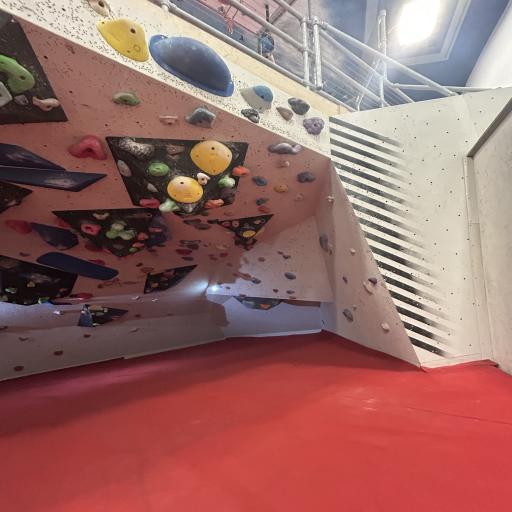holds: (153, 33, 234, 96), (97, 17, 149, 62), (192, 140, 234, 176), (0, 54, 34, 92), (68, 135, 108, 160), (119, 137, 156, 159), (241, 85, 272, 110), (106, 220, 135, 240), (184, 109, 214, 128), (112, 92, 141, 107), (33, 96, 61, 111), (6, 219, 34, 234), (301, 117, 325, 134), (288, 96, 310, 114), (269, 143, 302, 155), (88, 0, 112, 15), (0, 81, 13, 106), (159, 198, 180, 212), (148, 162, 168, 176), (276, 106, 294, 121), (242, 109, 260, 123), (81, 224, 102, 236), (118, 159, 132, 176), (219, 187, 238, 199), (160, 114, 178, 126), (218, 176, 236, 188), (232, 166, 250, 178), (166, 144, 186, 154), (204, 199, 224, 209), (140, 198, 160, 208), (298, 172, 316, 183), (15, 94, 30, 106), (319, 234, 329, 252), (252, 176, 268, 186), (55, 217, 71, 227), (274, 184, 290, 193), (84, 244, 102, 252), (362, 282, 374, 294), (197, 173, 210, 184), (342, 309, 354, 320), (179, 240, 201, 246), (78, 292, 94, 300), (88, 259, 105, 266), (216, 244, 229, 252), (147, 184, 159, 192), (184, 220, 200, 226), (93, 213, 109, 219), (116, 256, 132, 262), (284, 272, 296, 280), (243, 300, 255, 308), (176, 249, 192, 255), (277, 161, 290, 168), (258, 206, 271, 213), (256, 198, 268, 205), (243, 230, 255, 237), (140, 267, 154, 273), (194, 224, 210, 229), (132, 213, 148, 218), (132, 242, 144, 248), (381, 322, 390, 330), (138, 233, 148, 240), (368, 277, 378, 284), (38, 298, 49, 304), (163, 270, 174, 276), (250, 277, 260, 283), (150, 270, 165, 274), (88, 306, 103, 310), (57, 244, 67, 250), (228, 196, 235, 204), (113, 244, 124, 249), (70, 229, 81, 234), (103, 281, 114, 286), (149, 228, 162, 232), (208, 219, 218, 224), (6, 288, 16, 293), (14, 366, 24, 371), (232, 221, 239, 228), (295, 194, 303, 200), (326, 196, 334, 202), (182, 257, 194, 261), (55, 350, 63, 356), (260, 304, 269, 309), (55, 310, 66, 314), (349, 248, 356, 254), (124, 281, 138, 284), (176, 272, 186, 276), (131, 327, 139, 332), (110, 316, 120, 320), (224, 213, 236, 216), (200, 212, 209, 216), (20, 252, 29, 256), (282, 255, 291, 259), (59, 288, 68, 292), (130, 248, 137, 253), (151, 283, 158, 288), (222, 222, 230, 226), (220, 253, 228, 257), (210, 257, 218, 261), (204, 243, 212, 247), (96, 312, 104, 316), (0, 326, 8, 330), (247, 239, 253, 244), (20, 336, 26, 341), (233, 236, 240, 240), (136, 263, 143, 267), (253, 221, 261, 224), (351, 304, 357, 308), (343, 276, 347, 282), (278, 251, 284, 255), (258, 258, 264, 262), (286, 290, 294, 293), (289, 296, 297, 299), (226, 262, 232, 266), (248, 244, 254, 248), (148, 249, 156, 252), (160, 278, 168, 281), (135, 314, 141, 318), (84, 334, 90, 338), (97, 284, 103, 288), (244, 274, 251, 277), (237, 245, 244, 248), (151, 299, 158, 302), (93, 323, 100, 326), (157, 245, 167, 247), (152, 252, 157, 256), (232, 273, 238, 276), (226, 231, 232, 234), (82, 311, 88, 314), (274, 289, 278, 293), (239, 294, 247, 296), (208, 254, 216, 256), (104, 308, 108, 312), (225, 287, 231, 289), (216, 282, 222, 284), (164, 283, 168, 286), (167, 314, 173, 316), (92, 312, 96, 315), (57, 294, 60, 298), (84, 307, 87, 310), (146, 290, 149, 292)
